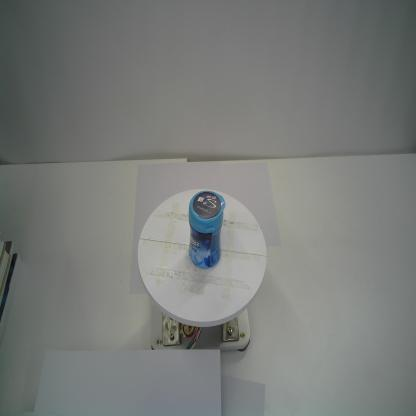Gum: (188, 189, 226, 270)
